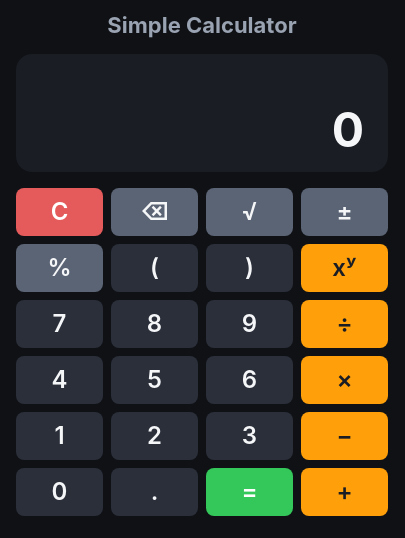
Test case: App › shows a friendly sqrt symbol while sending the backend form
Click the button "9".
click(250, 324)  # box [206, 300, 293, 348]
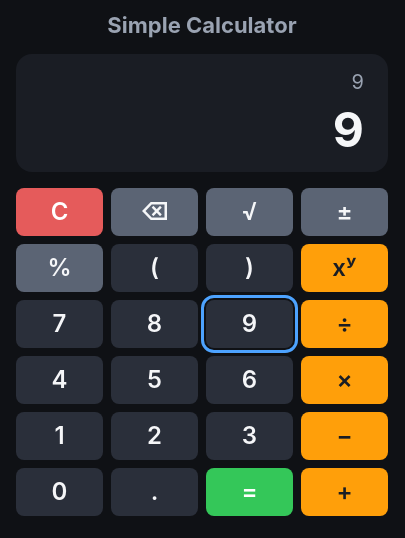
Click the button named "square root".
click(250, 212)  # box [206, 188, 293, 236]
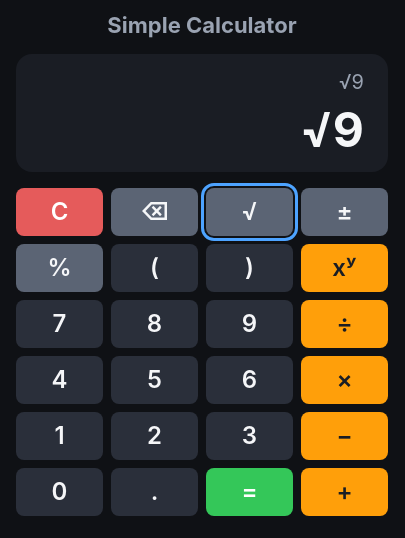
expect the message reads "√9": met, box [301, 100, 364, 159]
Click the button named "equals".
click(250, 492)  # box [206, 468, 293, 516]
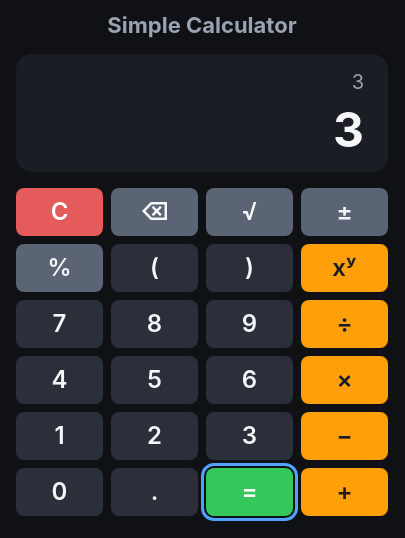
expect the message reads "3": met, box [333, 100, 364, 159]
